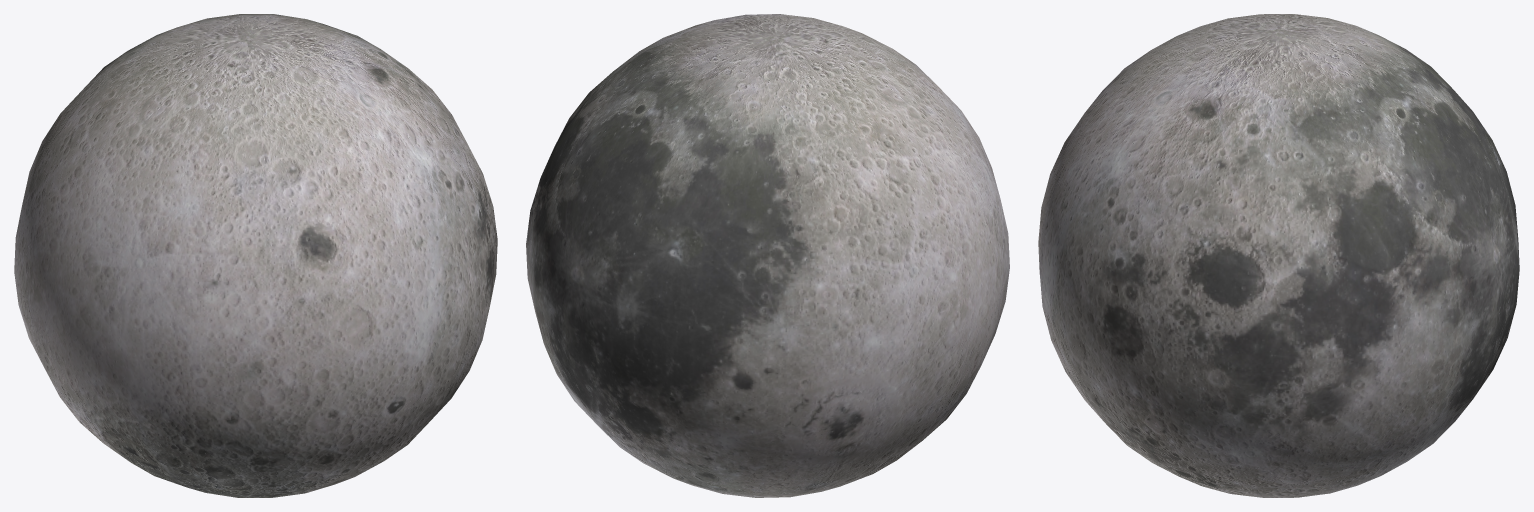
Rendered from moon.glb.
3 renders of one model, left to right at view 1: azimuth 30°, elevation 25°; view 2: azimuth 150°, elevation 25°; view 3: azimuth 270°, elevation 25°, orthographic.
Visible parts, largest first — view 1: MOON_0; view 2: MOON_0; view 3: MOON_0.
Boxes of the visible parts, box(x1,y1,x2,y2) form: MOON_0: box(14, 14, 497, 497); MOON_0: box(526, 14, 1009, 497); MOON_0: box(1038, 14, 1519, 497).
Size of the model in its own units: 0.1162 by 0.1173 by 0.1163.
1 material, 1 textured.
